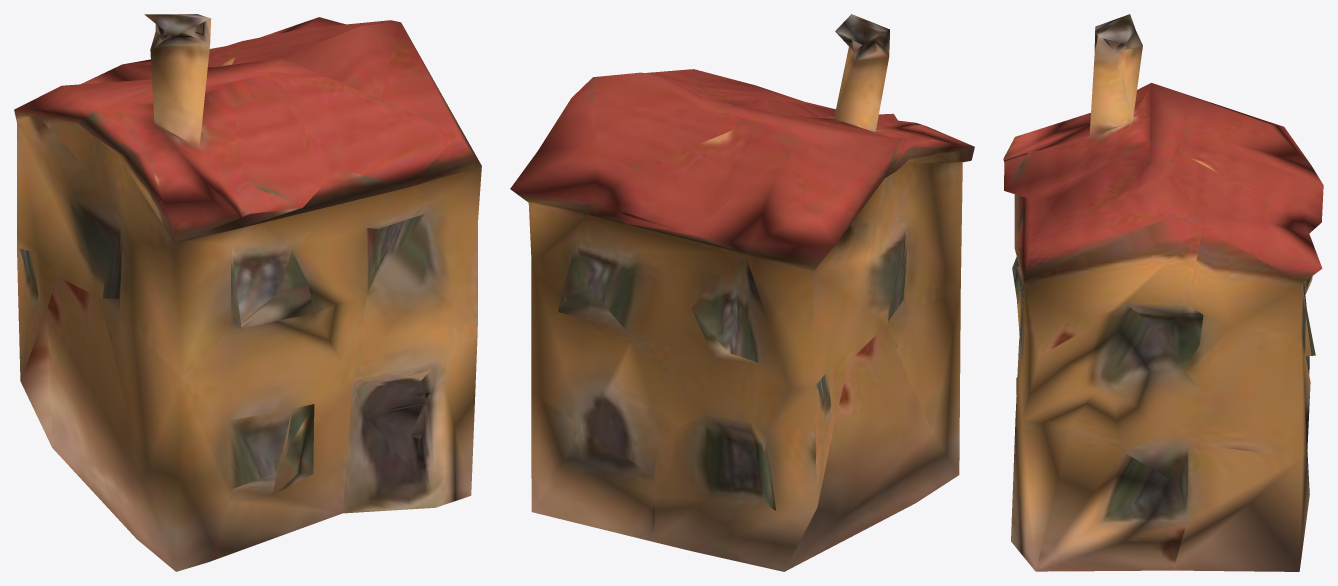
The model's file is house_italian_lo.glb.
3 views of the same model, side by side, from view 1: azimuth 30°, elevation 25°; view 2: azimuth 150°, elevation 25°; view 3: azimuth 270°, elevation 25° (orthographic). The views are drawn at different scales.
Visible parts, largest first — view 1: tripo_node_c0eac007-4ce4-4af3-9bb9-1494aa1ed47c; view 2: tripo_node_c0eac007-4ce4-4af3-9bb9-1494aa1ed47c; view 3: tripo_node_c0eac007-4ce4-4af3-9bb9-1494aa1ed47c.
Part boxes in pixels (bbox=[...]): tripo_node_c0eac007-4ce4-4af3-9bb9-1494aa1ed47c: bbox=[14, 14, 481, 571]; tripo_node_c0eac007-4ce4-4af3-9bb9-1494aa1ed47c: bbox=[510, 14, 974, 571]; tripo_node_c0eac007-4ce4-4af3-9bb9-1494aa1ed47c: bbox=[1003, 14, 1323, 571].
Bounding box in the file's own units: 0.6685 × 0.9758 × 0.6408.
Materials: 1 (1 with a texture image).
